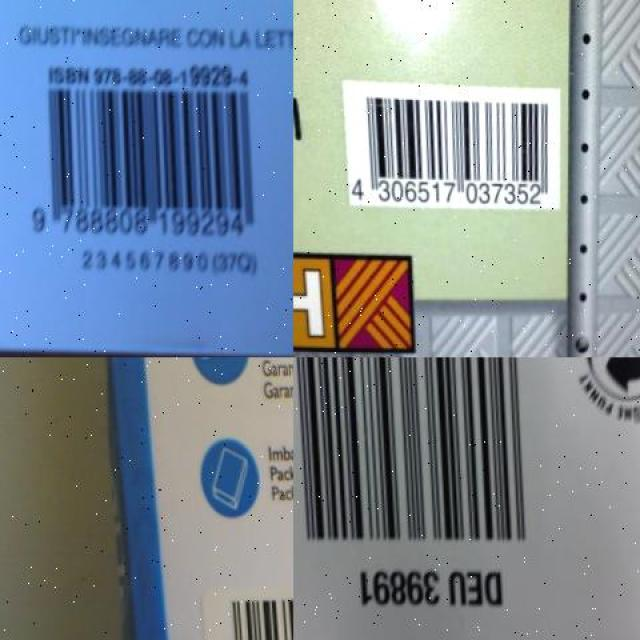Barcode: (293, 357, 571, 563), (12, 52, 268, 244), (337, 76, 560, 212)
